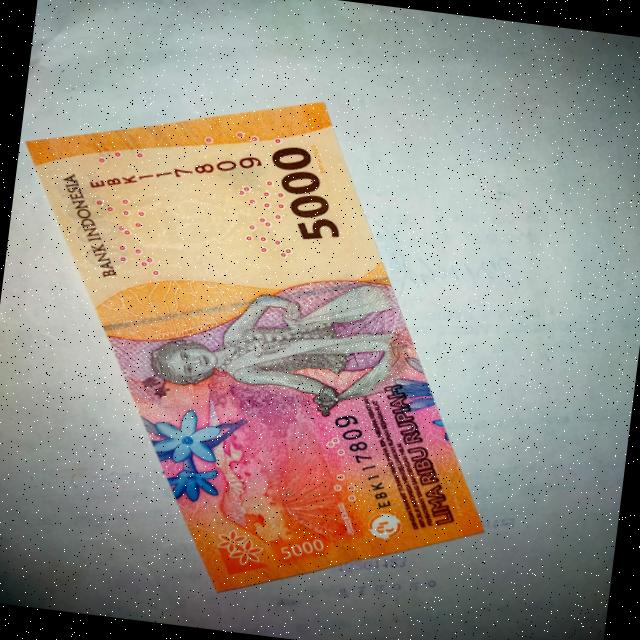5K: (0, 59, 549, 631)
